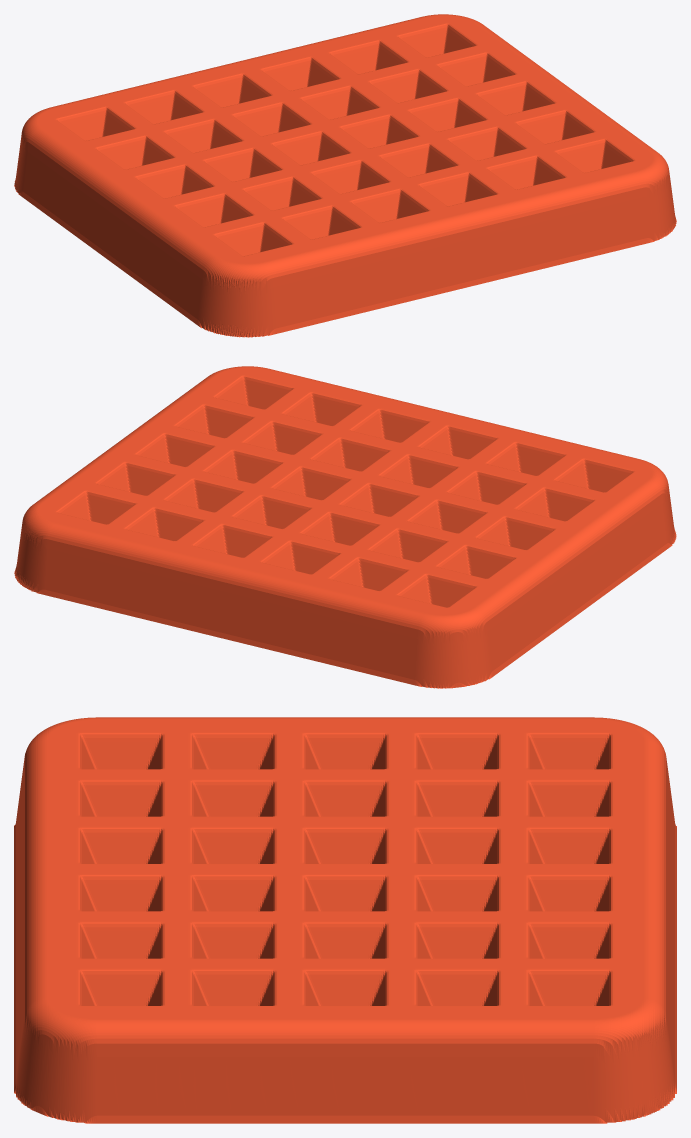
File: mold.glb
3 views of the same model, one above another, from view 1: azimuth 30°, elevation 25°; view 2: azimuth 150°, elevation 25°; view 3: azimuth 270°, elevation 25° (orthographic). The views are drawn at different scales.
Visible parts, largest first — view 1: geometry_0; view 2: geometry_0; view 3: geometry_0.
Boxes of the visible parts, x1=… form: geometry_0: x1=14, y1=14, x2=676, y2=337; geometry_0: x1=14, y1=366, x2=676, y2=688; geometry_0: x1=14, y1=717, x2=676, y2=1123.
Size of the model in its own units: 0.0844 by 0.0109 by 0.0722.
